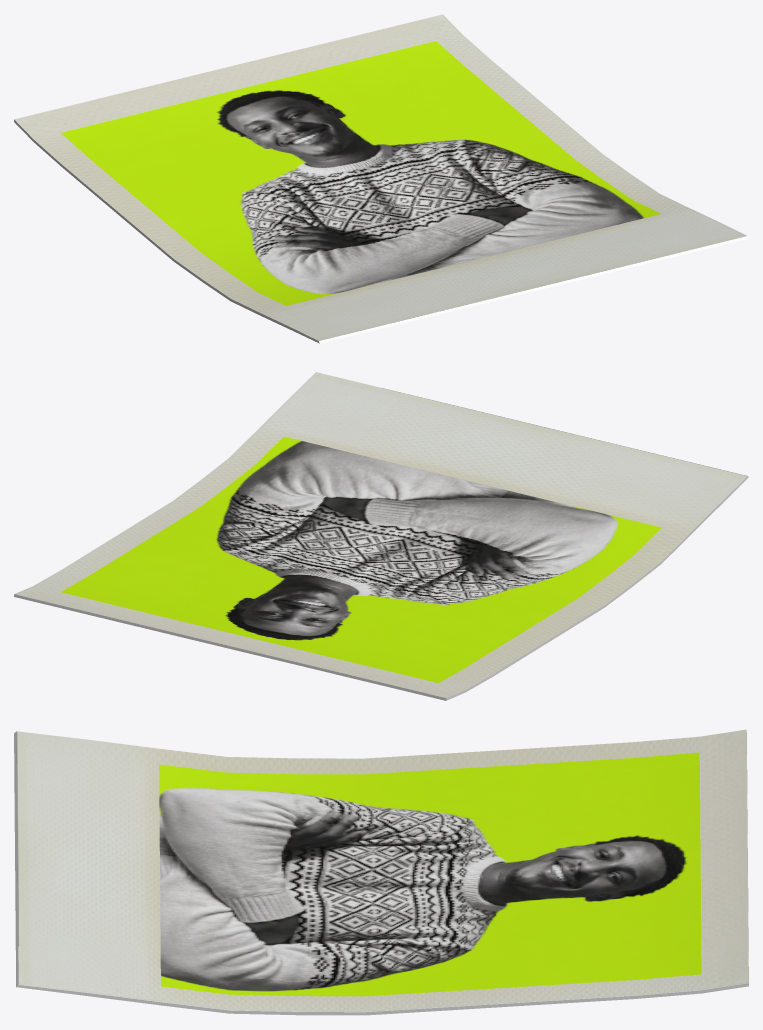
File: contact_card.glb
3 renders of one model, top to bottom at view 1: azimuth 30°, elevation 25°; view 2: azimuth 150°, elevation 25°; view 3: azimuth 270°, elevation 25°, orthographic. The views are drawn at different scales.
Parts seen in each view (by area): view 1: photo; view 2: photo; view 3: photo.
Part boxes in pixels (x1=…): photo: x1=14, y1=14, x2=748, y2=343; photo: x1=14, y1=372, x2=748, y2=700; photo: x1=14, y1=729, x2=748, y2=1015.
Bounding box in the file's own units: 20.74 × 1.23 × 25.35.
Materials: 3 (3 with a texture image).
